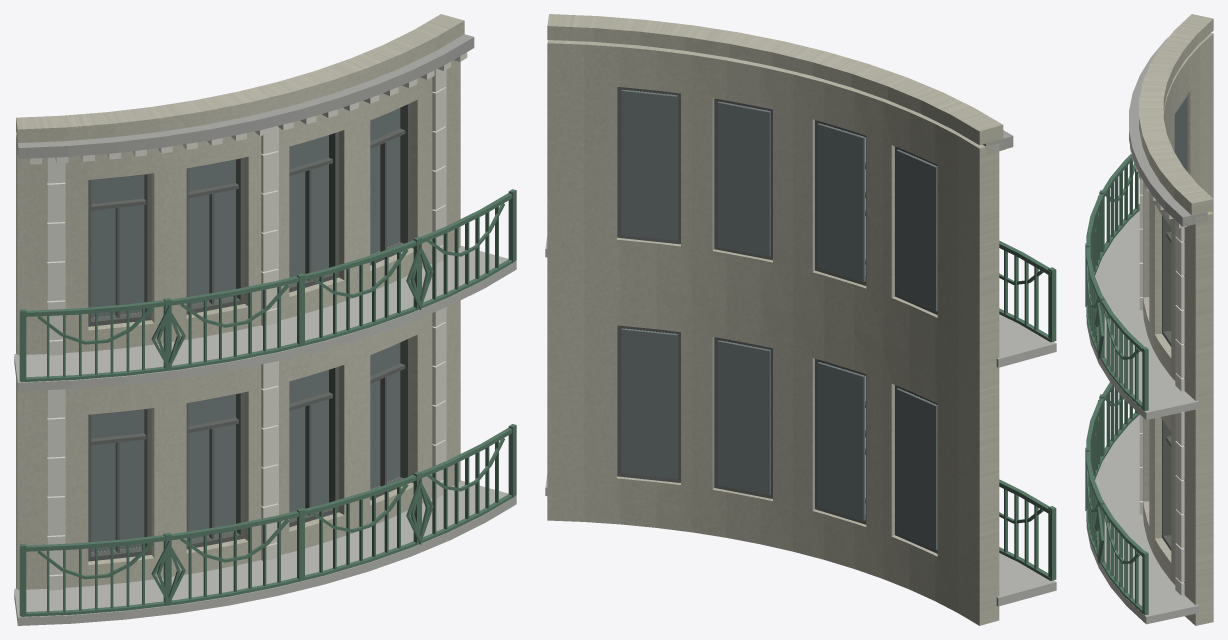
File: rui-rong-shipyard-curved-green-gallery-far.glb
3 renders of one model, left to right at view 1: azimuth 30°, elevation 25°; view 2: azimuth 150°, elevation 25°; view 3: azimuth 270°, elevation 25°, orthographic. The views are drawn at different scales.
Parts seen in each view (by area): view 1: 瑞瑢船厂旧址转角双层绿铁栏外廊; view 2: 瑞瑢船厂旧址转角双层绿铁栏外廊; view 3: 瑞瑢船厂旧址转角双层绿铁栏外廊.
Boxes of the visible parts, box(x1,y1,x2,y2) form: 瑞瑢船厂旧址转角双层绿铁栏外廊: box(14, 14, 516, 625); 瑞瑢船厂旧址转角双层绿铁栏外廊: box(545, 14, 1056, 625); 瑞瑢船厂旧址转角双层绿铁栏外廊: box(1085, 14, 1213, 625).
Bounding box in the file's own units: 3.71 × 3.46 × 0.9502.
7 materials, 1 textured.
